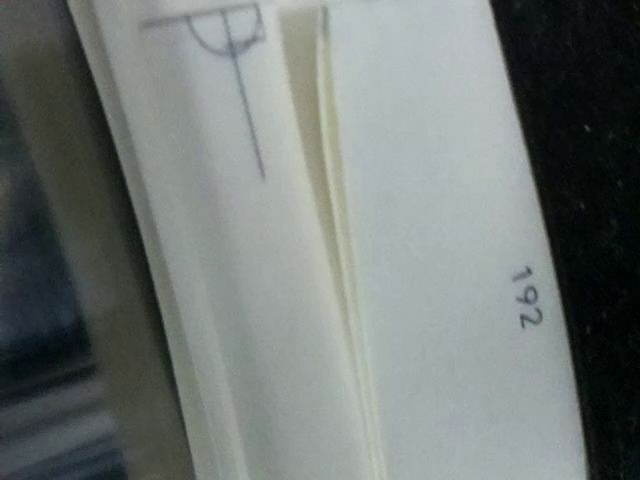not_sure: (139, 1, 282, 59)
